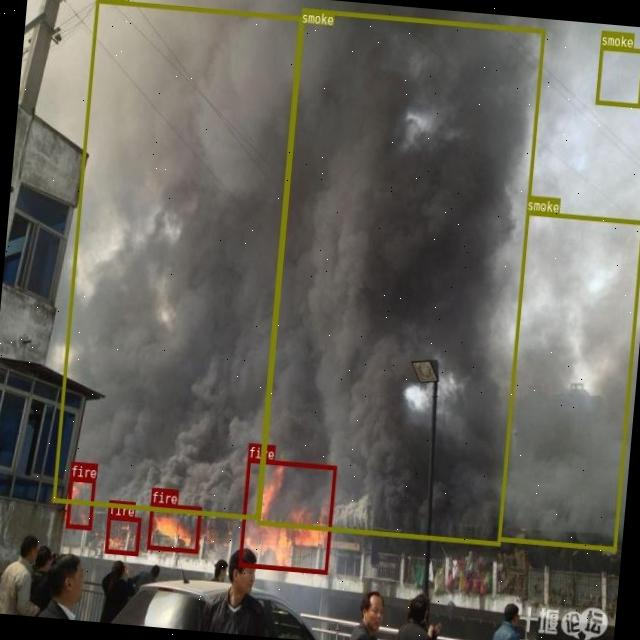fire: (238, 458, 336, 574), (146, 502, 202, 552), (65, 476, 95, 529), (104, 514, 140, 555)
smoke: (257, 8, 545, 544), (51, 0, 301, 519), (496, 210, 640, 550), (595, 44, 640, 107)
